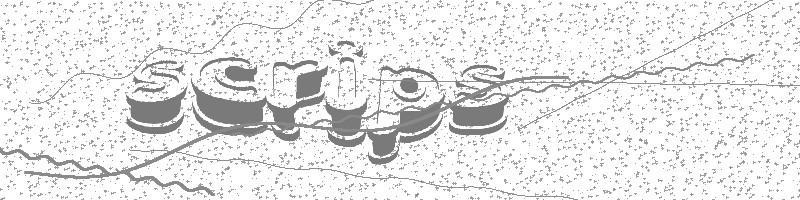c: (189, 57, 268, 137)
i: (324, 40, 368, 148)
p: (364, 65, 445, 167)
r: (267, 59, 327, 143)
s: (126, 59, 188, 135), (448, 64, 510, 136)
